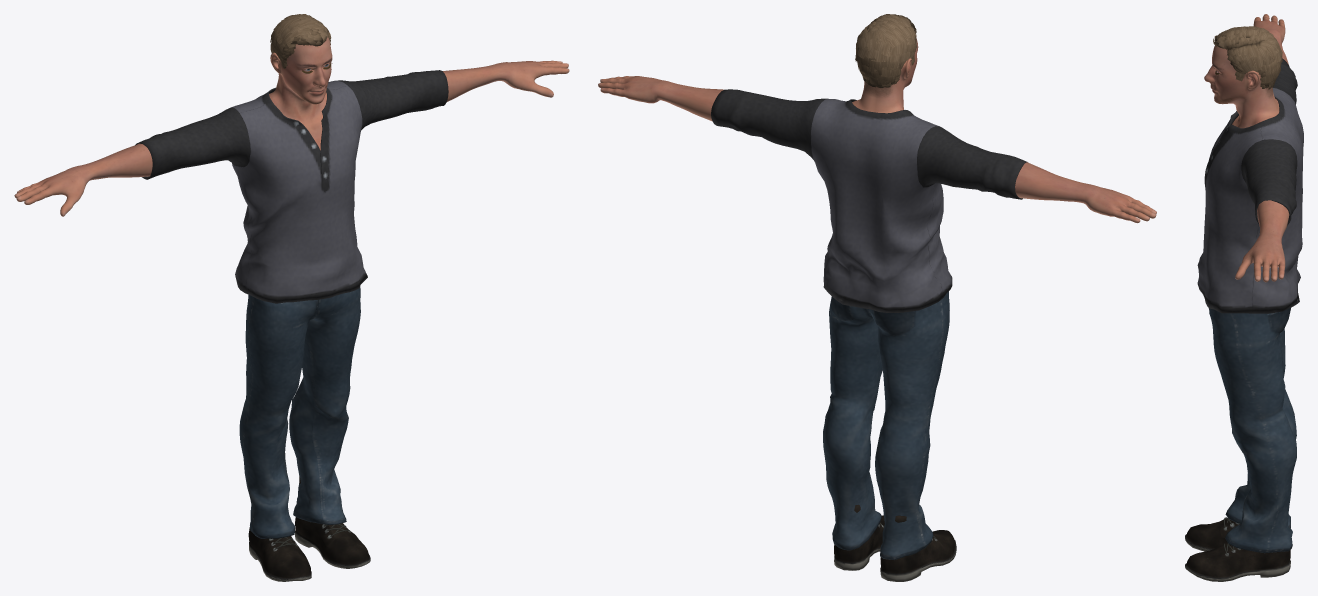
The model's file is NPC 2.obj.
The picture shows the model from 3 angles, left to right: view 1: azimuth 30°, elevation 25°; view 2: azimuth 150°, elevation 25°; view 3: azimuth 270°, elevation 25°; orthographic projection. The views are drawn at different scales.
Visible parts, largest first — view 1: Tops, Bottoms, Body, Shoes, Hair; view 2: Tops, Bottoms, Body, Hair, Shoes; view 3: Tops, Bottoms, Body, Shoes, Hair.
Boxes of the visible parts, x1,y1,x2,y2 form: Tops: (135, 70, 448, 303); Bottoms: (239, 286, 360, 538); Body: (14, 37, 569, 216); Shoes: (248, 475, 370, 581); Hair: (270, 14, 331, 68); Tops: (711, 89, 1027, 312); Bottoms: (823, 291, 949, 559); Body: (598, 38, 1156, 223); Hair: (855, 14, 916, 87); Shoes: (834, 504, 956, 581); Tops: (1197, 58, 1303, 313); Bottoms: (1208, 308, 1296, 553); Body: (1204, 14, 1289, 282); Shoes: (1185, 517, 1290, 581); Hair: (1213, 26, 1282, 89).
Bounding box in the file's own units: 194 × 181 × 36.74.
1 material, 1 textured.
